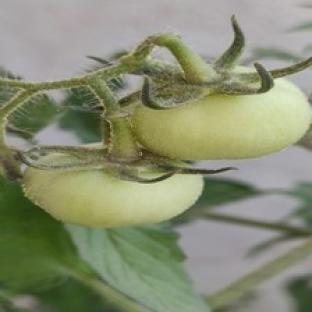Tomato: (133, 78, 311, 160), (23, 168, 203, 228)
